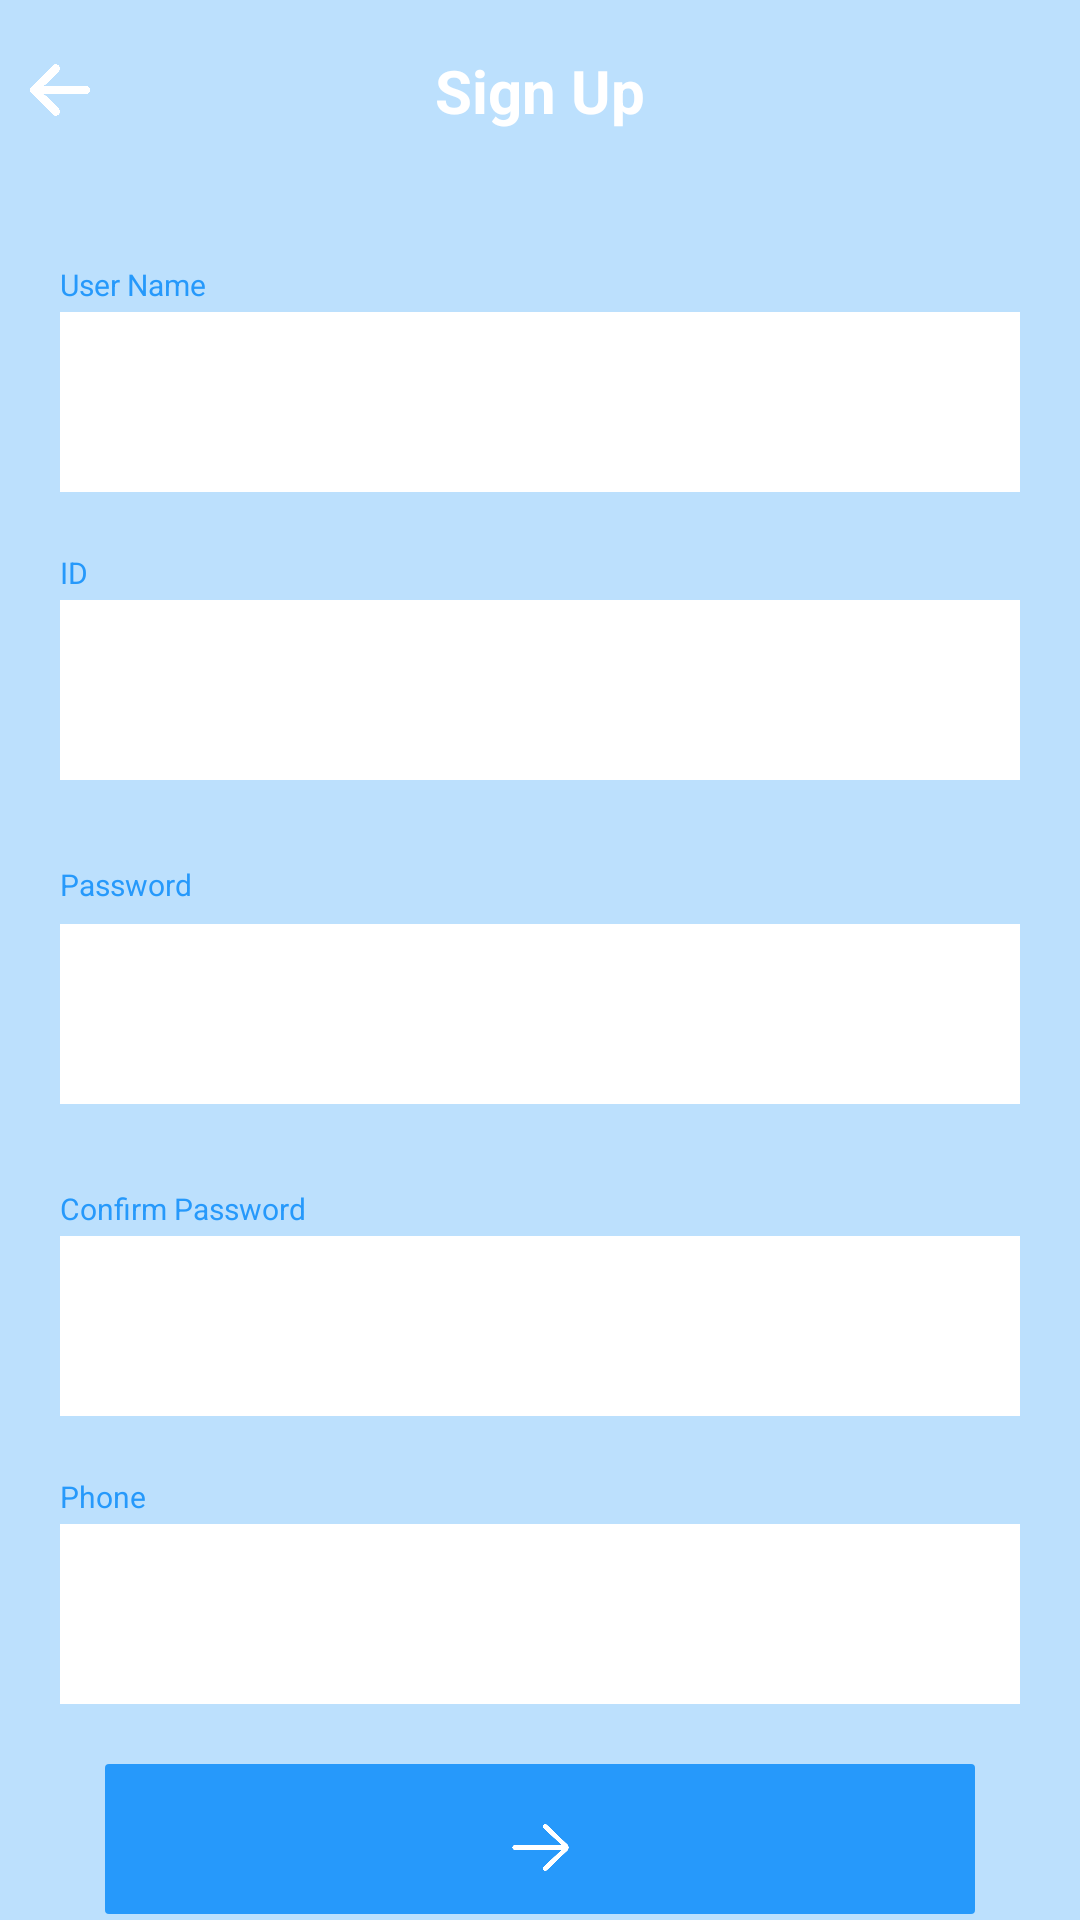

Screen size 1080x1920. Icon name, then its center in pixels as (x=x, y=y):
arrow: (x=60, y=90)
rightarrow: (x=540, y=1847)
